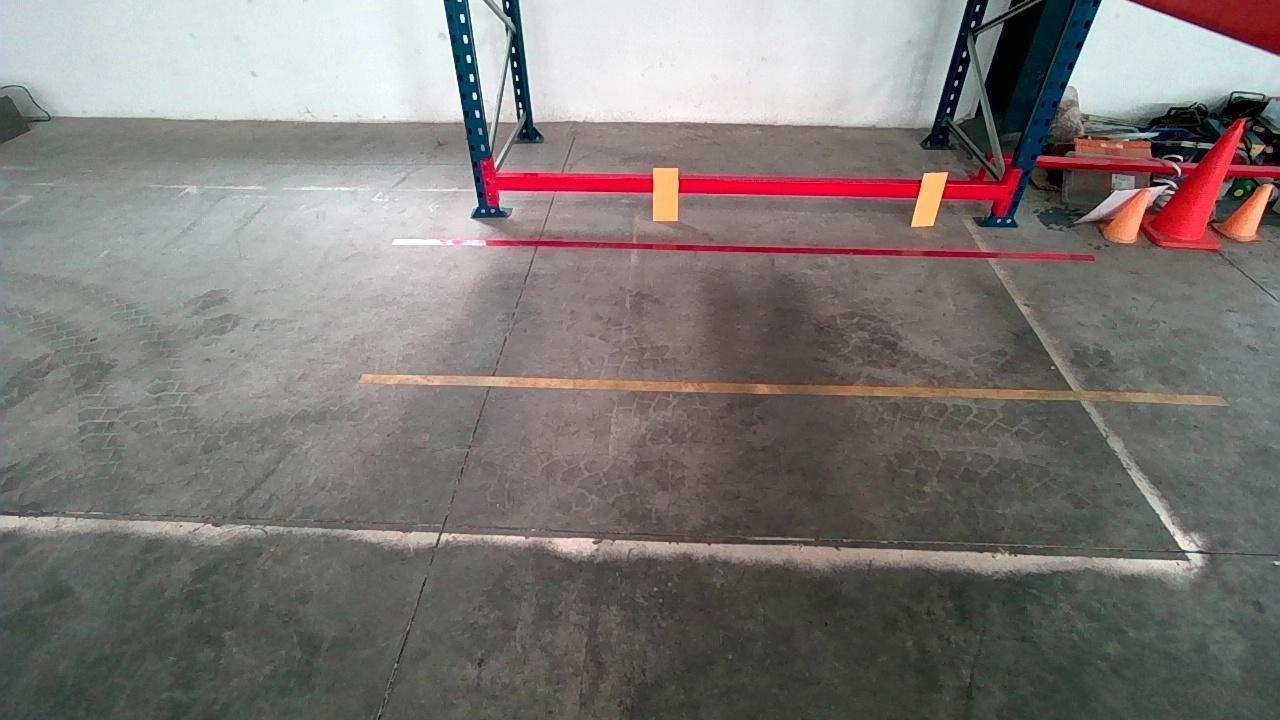h_rack: (488, 174, 1006, 202)
orange_strip: (912, 171, 949, 223), (652, 166, 680, 221)
red_line: (389, 239, 1094, 262)
yellow_line: (357, 370, 1232, 407)
